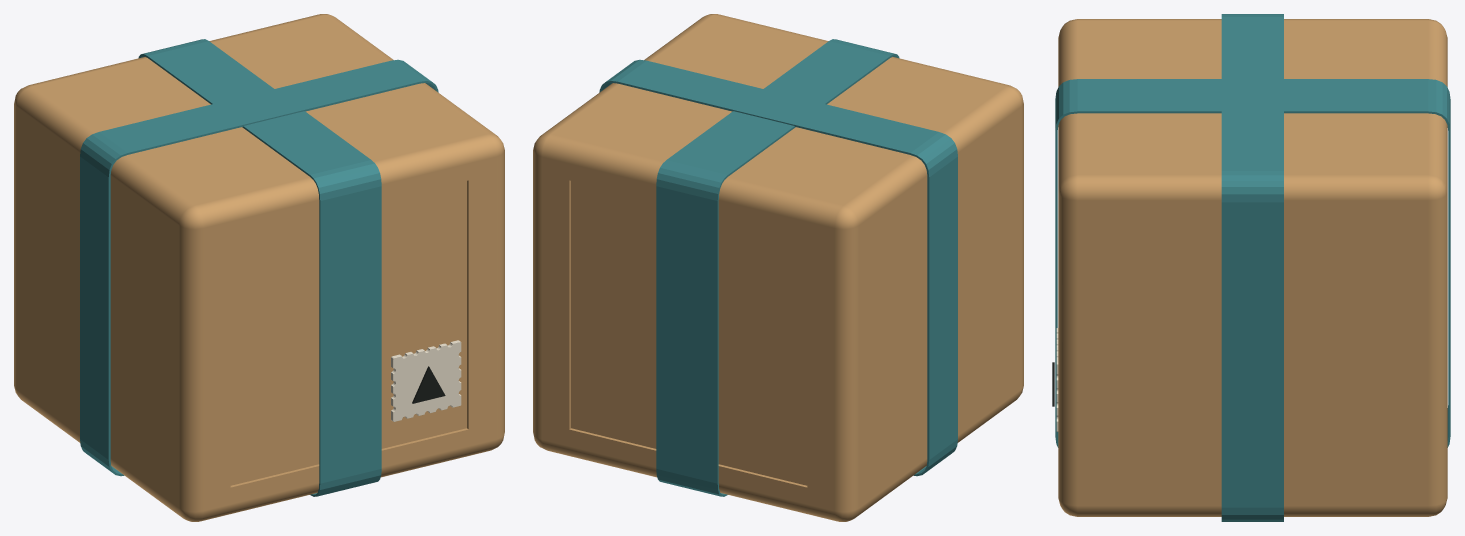
The model's file is play-parcel-small-teal.glb.
3 views of the same model, side by side, from view 1: azimuth 30°, elevation 25°; view 2: azimuth 150°, elevation 25°; view 3: azimuth 270°, elevation 25° (orthographic). The views are drawn at different scales.
Visible parts, largest first — view 1: Parcel_Carton, Parcel_Tape_Continuous_Front_Back, Parcel_Tape_Continuous_Left_Right, Parcel_Paper_Label, Parcel_Label_Triangle; view 2: Parcel_Carton, Parcel_Tape_Continuous_Front_Back, Parcel_Tape_Continuous_Left_Right; view 3: Parcel_Carton, Parcel_Tape_Continuous_Left_Right, Parcel_Tape_Continuous_Front_Back.
Part boxes in pixels (x1,y1,x2,y2): Parcel_Carton: (14, 14, 504, 521); Parcel_Tape_Continuous_Front_Back: (138, 39, 381, 496); Parcel_Tape_Continuous_Left_Right: (80, 59, 438, 476); Parcel_Paper_Label: (391, 340, 461, 421); Parcel_Label_Triangle: (412, 366, 445, 403); Parcel_Carton: (533, 14, 1023, 521); Parcel_Tape_Continuous_Front_Back: (656, 39, 899, 496); Parcel_Tape_Continuous_Left_Right: (599, 59, 957, 476); Parcel_Carton: (1058, 19, 1447, 516); Parcel_Tape_Continuous_Left_Right: (1221, 14, 1283, 521); Parcel_Tape_Continuous_Front_Back: (1055, 79, 1450, 447).
Bounding box in the file's own units: 0.148 × 0.138 × 0.1431.
